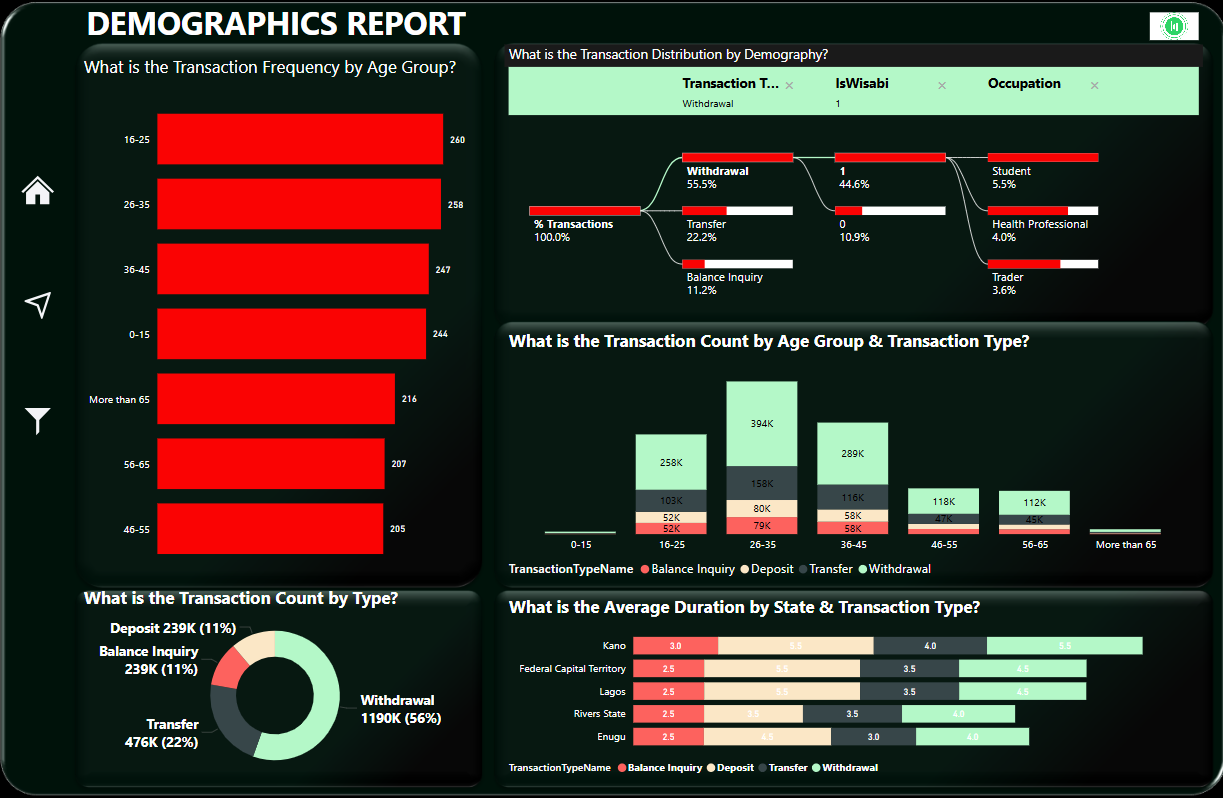

What the dashboard file says about the page in this screenshot:
{"tool":"powerbi","page":{"name":"Demography","canvas":[1450,950],"ordinal":2},"visuals":[{"type":"columnChart","title":"What is the Transaction Count by Age Group & Transaction Type?","fields":{"Y":[" Measures Table.transaction_count"],"Category":["Customers.Age Group"],"Series":["Transaction Type.TransactionTypeName"]},"box":[598.2,390.4,823.6,303.5],"z":0},{"type":"donutChart","title":"What is the Transaction Count by Type?","fields":{"Category":["Transaction Type.TransactionTypeName"],"Y":[" Measures Table.transaction_count"]},"box":[97.2,693.9,461.2,232.8],"z":1000},{"type":"barChart","title":"What is the Transaction Frequency by Age Group?","fields":{"Y":[" Measures Table.transaction_frequency"],"Category":["Customers.Age Group"]},"box":[97.2,67.8,461.2,626.2],"z":2000},{"type":"barChart","title":"What is the Average Duration by State & Transaction Type?","fields":{"Y":[" Measures Table.average_duration"],"Category":["Location.State"],"Series":["Transaction Type.TransactionTypeName"]},"box":[598.2,704.3,823.6,222.5],"z":3000},{"type":"image","box":[1354,13.3,67.8,42.7],"z":4000},{"type":"decompositionTreeVisual","title":"What is the Transaction Distribution by Demography?","fields":{"Analyze":[" Measures Table.% Transactions"],"ExplainBy":["Transaction Type.TransactionTypeName","Customers.IsWisabi","Customers.Occupation"]},"box":[598.2,56,823.6,309.4],"z":5000},{"type":"textbox","box":[100.2,0,498,61.9],"z":6000},{"type":"actionButton","box":[22.1,197.4,53,57.5],"z":7000},{"type":"actionButton","box":[22.1,333,53,57.5],"z":8000}]}

Visuals, with their boxes in screenshot pixels (x1, y1, x2, y2), scaled from the page's 1450x950 canvas onto the 1223x798 screenshot:
"What is the Transaction Count by Age Group & Transaction Type?" columnChart: region(505, 328, 1199, 583)
"What is the Transaction Count by Type?" donutChart: region(82, 583, 471, 778)
"What is the Transaction Frequency by Age Group?" barChart: region(82, 57, 471, 583)
"What is the Average Duration by State & Transaction Type?" barChart: region(505, 592, 1199, 779)
image: region(1142, 11, 1199, 47)
"What is the Transaction Distribution by Demography?" decompositionTreeVisual: region(505, 47, 1199, 307)
textbox: region(85, 0, 505, 52)
actionButton: region(19, 166, 63, 214)
actionButton: region(19, 280, 63, 328)
